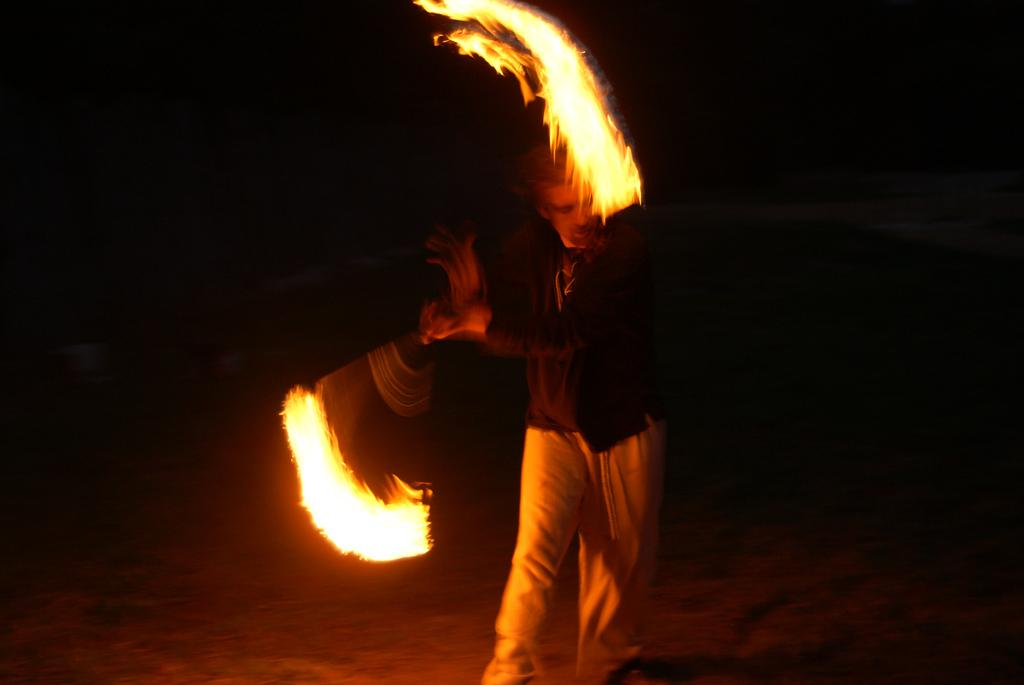fire: (558, 72, 628, 202), (320, 482, 432, 562)
